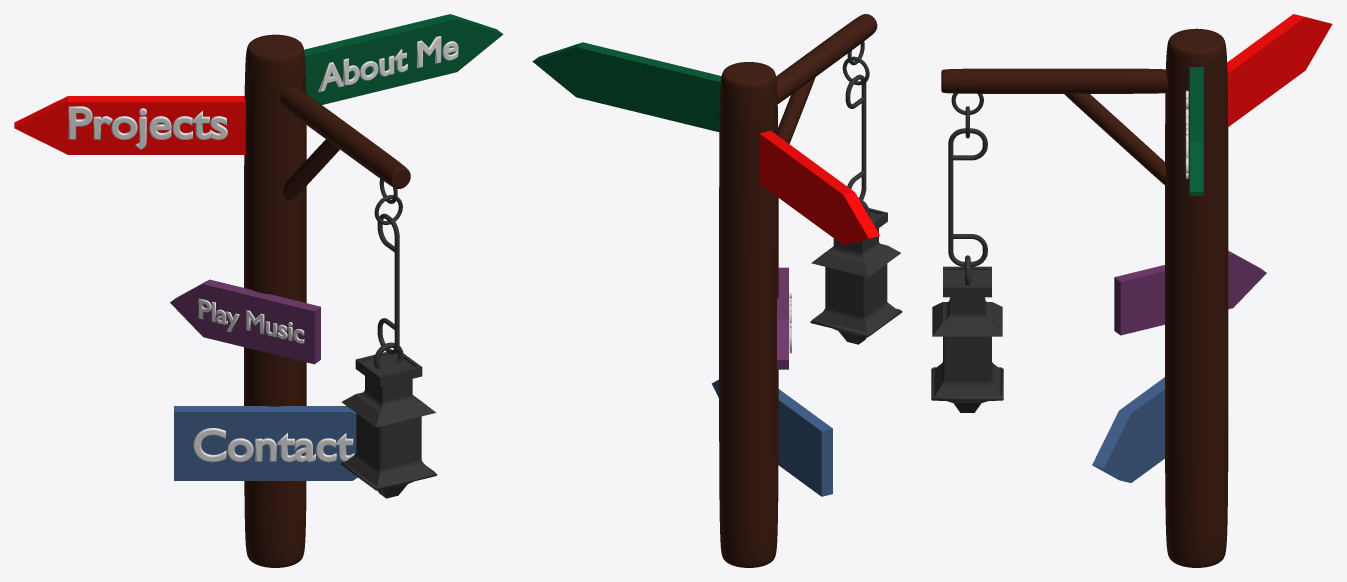
The model's file is SignPost.glb.
The picture shows the model from 3 angles, left to right: view 1: azimuth 30°, elevation 25°; view 2: azimuth 150°, elevation 25°; view 3: azimuth 270°, elevation 25°; orthographic projection. The views are drawn at different scales.
Visible parts, largest first — view 1: Post, SignContact, SignProjects, Lantern, SignAboutMe, SignMusic, Support, TextProjects, TextContact, TextAboutMe, TextMusic, Chain (+1 smaller); view 2: Post, SignAboutMe, Lantern, SignProjects, SignContact, Support, SignMusic, Chain, DiagonalSupport; view 3: Post, Lantern, SignProjects, Support, SignContact, SignMusic, DiagonalSupport, SignAboutMe, Chain.
Part boxes in pixels (x1,y1,x2,y2): Post: (244, 34, 306, 567); SignContact: (174, 406, 357, 480); SignProjects: (14, 96, 245, 154); Lantern: (340, 352, 437, 498); SignAboutMe: (304, 14, 503, 104); SignMusic: (170, 279, 320, 364); Support: (279, 86, 410, 188); TextProjects: (68, 106, 227, 149); TextContact: (193, 428, 354, 462); TextAboutMe: (318, 36, 458, 92); TextMusic: (198, 298, 304, 343); Chain: (377, 213, 399, 354); Post: (719, 62, 778, 567); SignAboutMe: (532, 42, 721, 131); Lantern: (810, 208, 902, 344); SignProjects: (759, 130, 879, 245); SignContact: (711, 379, 832, 496); Support: (776, 14, 877, 103); SignMusic: (777, 267, 788, 369); Chain: (845, 74, 866, 199); DiagonalSupport: (778, 77, 815, 143); Post: (1165, 28, 1228, 567); Lantern: (931, 266, 1003, 412); SignProjects: (1227, 14, 1332, 126); Support: (941, 68, 1167, 93); SignContact: (1092, 377, 1164, 482); SignMusic: (1114, 250, 1266, 335); DiagonalSupport: (1064, 93, 1166, 185); SignAboutMe: (1189, 67, 1203, 195); Chain: (948, 128, 987, 266).
Size of the model in its own units: 3.52 by 4.06 by 2.85.
